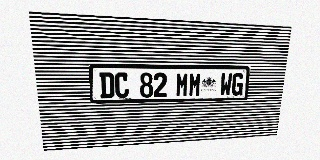2: (153, 72, 167, 97)
8: (140, 72, 153, 98)
C: (114, 72, 129, 98)
D: (99, 72, 115, 98)
G: (231, 73, 244, 96)
M: (175, 72, 189, 97), (188, 73, 202, 96)
W: (219, 73, 233, 96)
